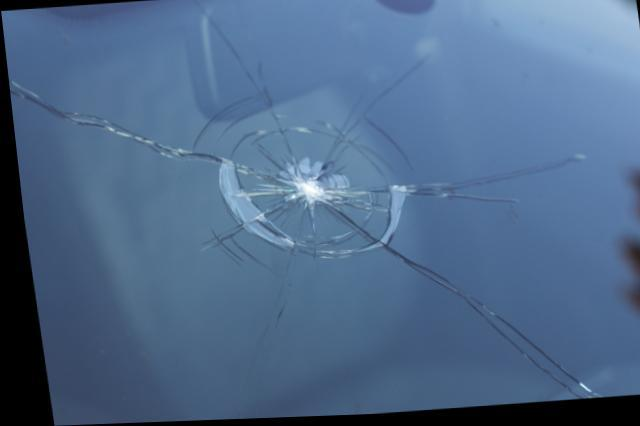glass shatter: (7, 30, 593, 403)
